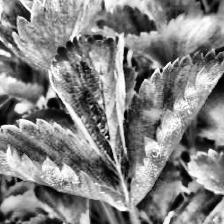Powdery Mildew Leaf: (120, 47, 224, 207), (0, 117, 131, 211), (48, 31, 128, 183)
